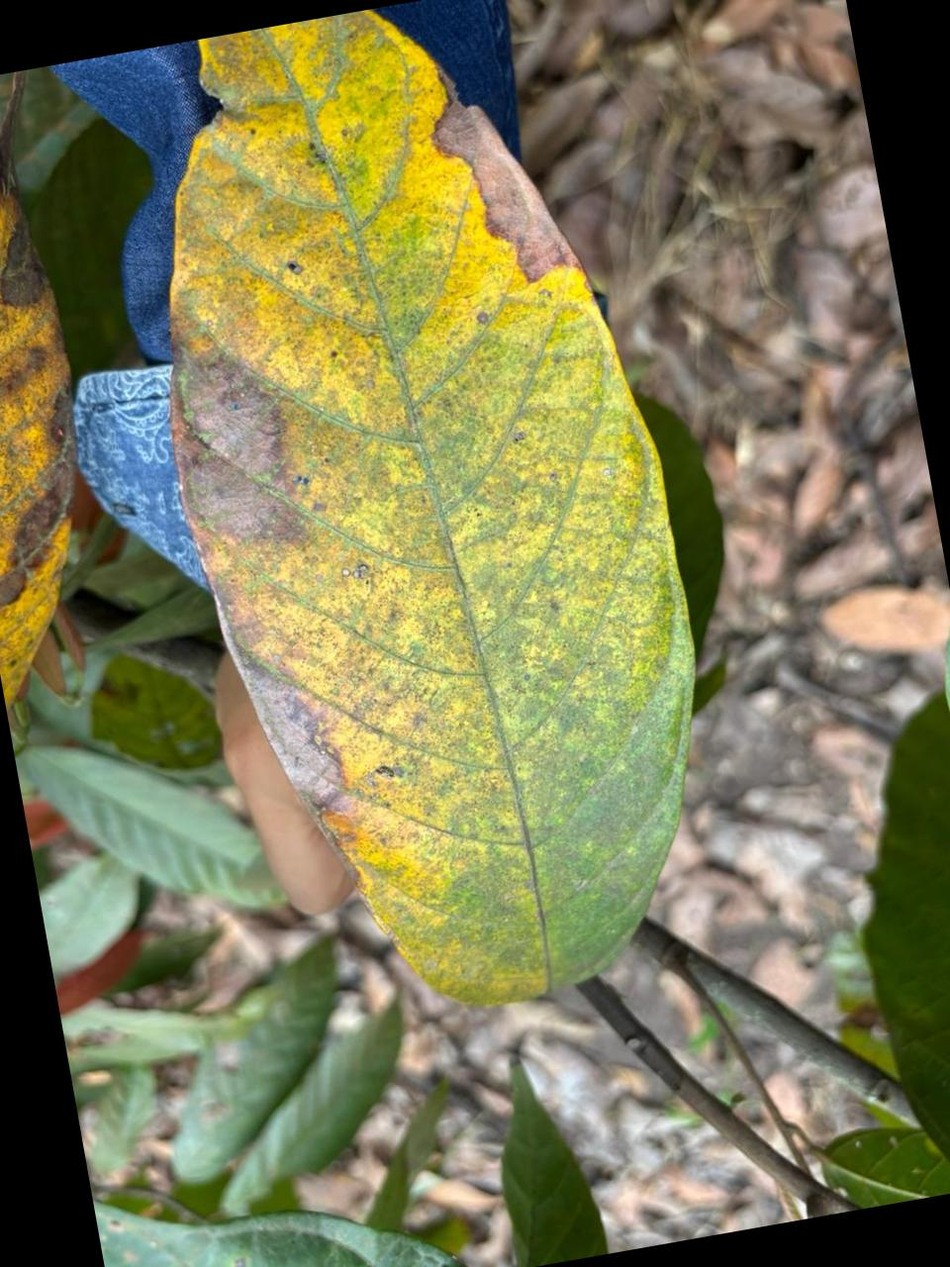Fosforo: (169, 10, 693, 1005)
